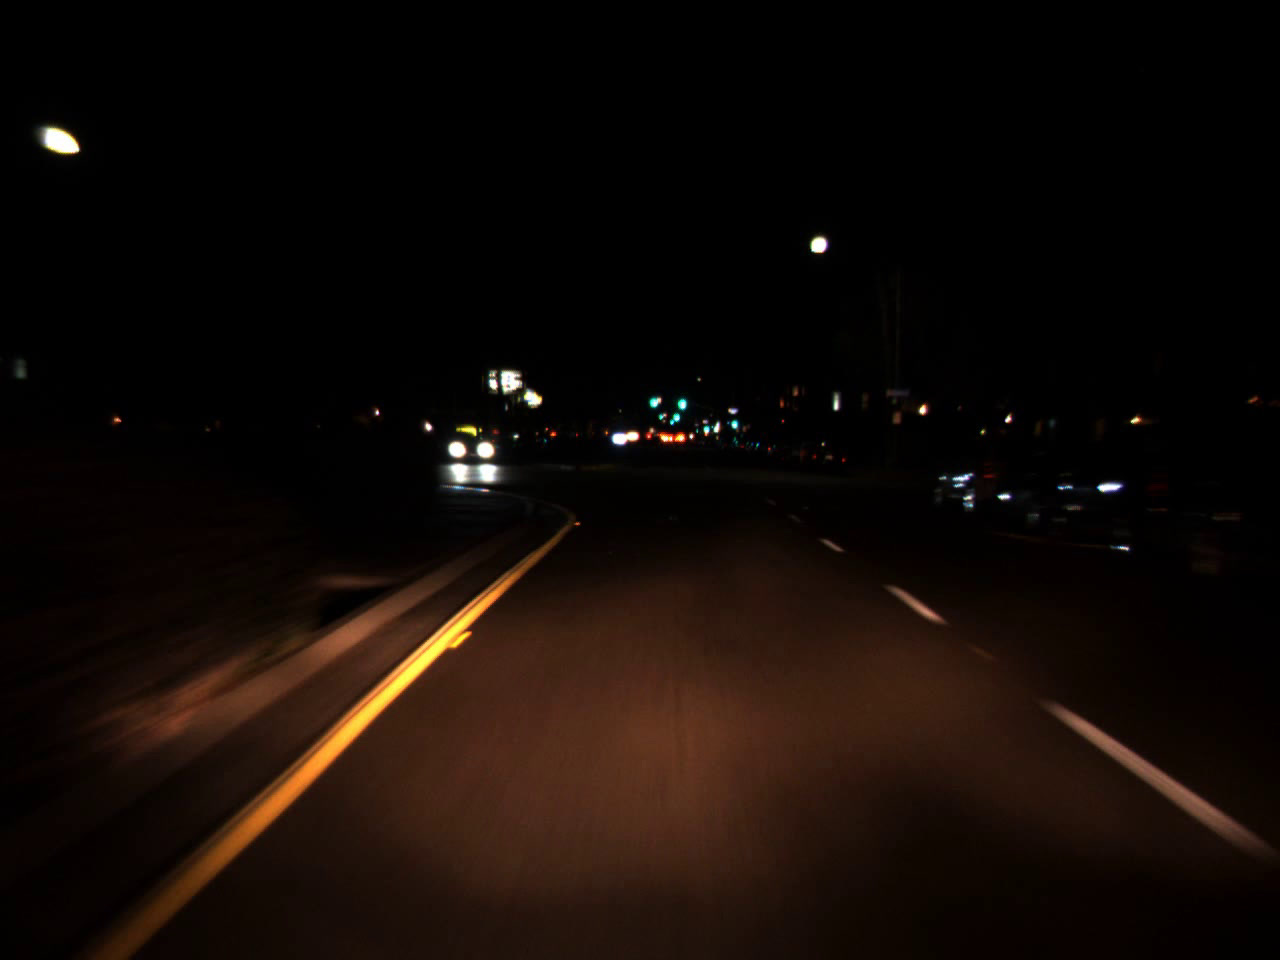go: (674, 386, 688, 413), (648, 387, 658, 411), (671, 402, 680, 426), (729, 413, 738, 428), (701, 418, 710, 433), (668, 412, 675, 427)
